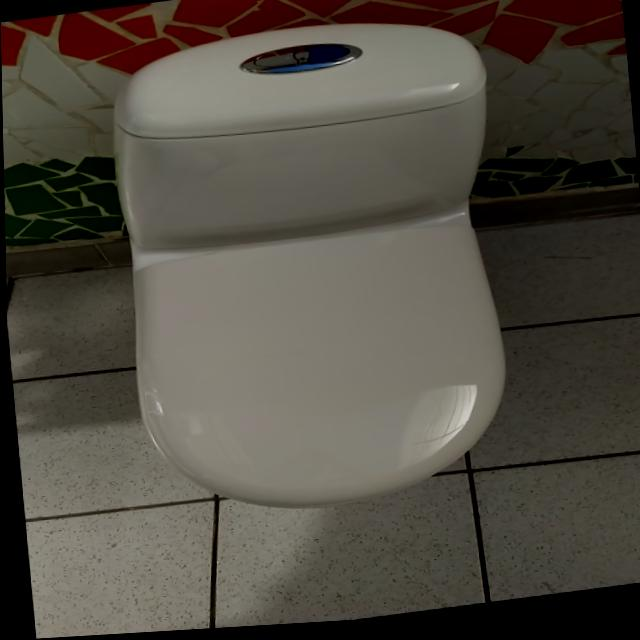toilet: (100, 7, 522, 533)
